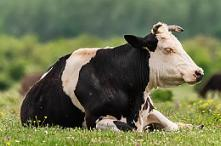cow: (19, 23, 203, 133)
